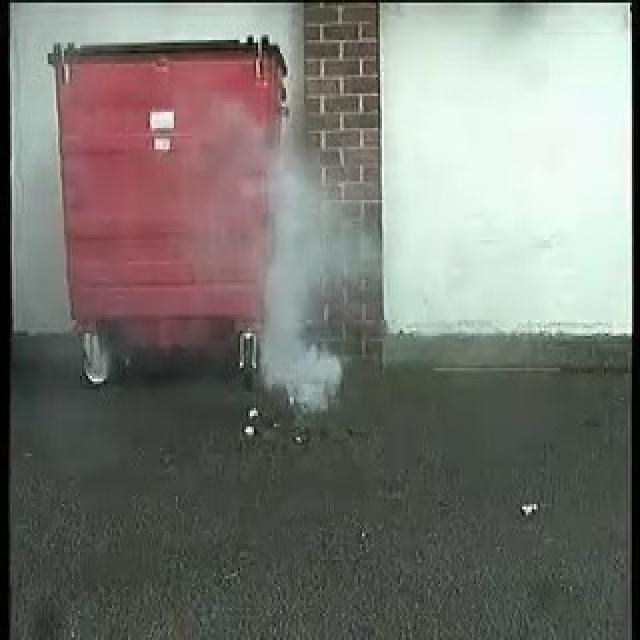smoke: (260, 160, 379, 414)
